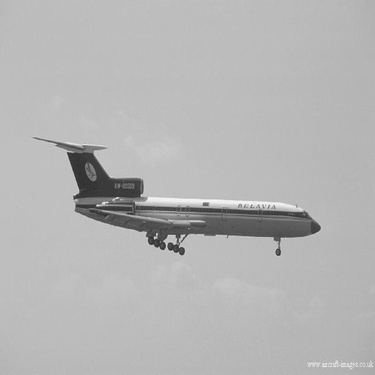airplane: (19, 129, 326, 263)
